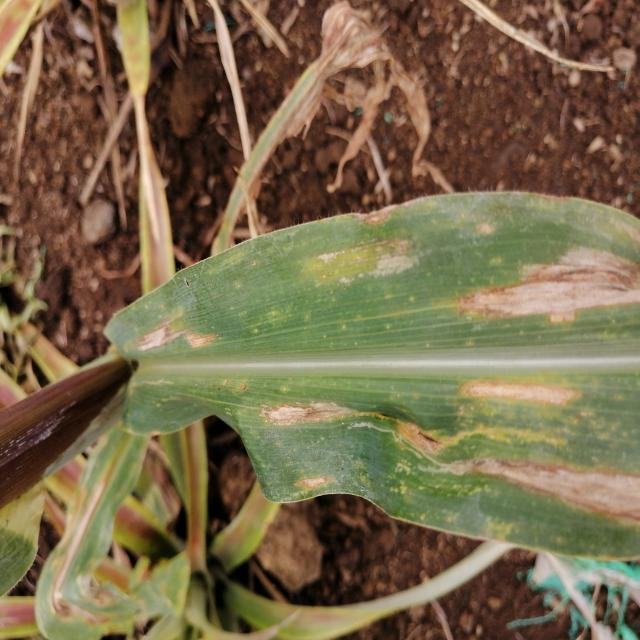Corn_Leaf_Blight: (95, 187, 640, 565)
